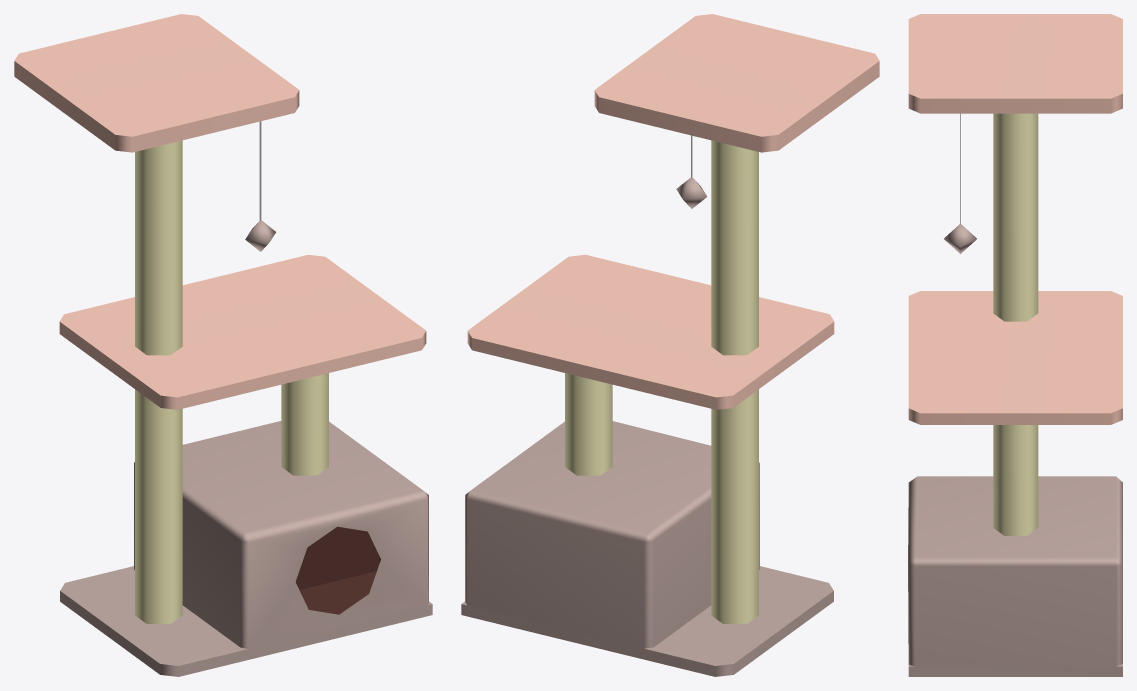
Rendered from Juguete.obj.
3 renders of one model, left to right at view 1: azimuth 30°, elevation 25°; view 2: azimuth 150°, elevation 25°; view 3: azimuth 270°, elevation 25°, orthographic. The views are drawn at different scales.
Parts seen in each view (by area): view 1: scratching_post_001; view 2: scratching_post_001; view 3: scratching_post_001.
Boxes of the visible parts, x1,y1,x2,y2 form: scratching_post_001: [14, 14, 432, 676]; scratching_post_001: [461, 14, 879, 676]; scratching_post_001: [908, 14, 1122, 676].
Bounding box in the file's own units: 3.15 × 5.33 × 2.
1 material, 1 textured.
